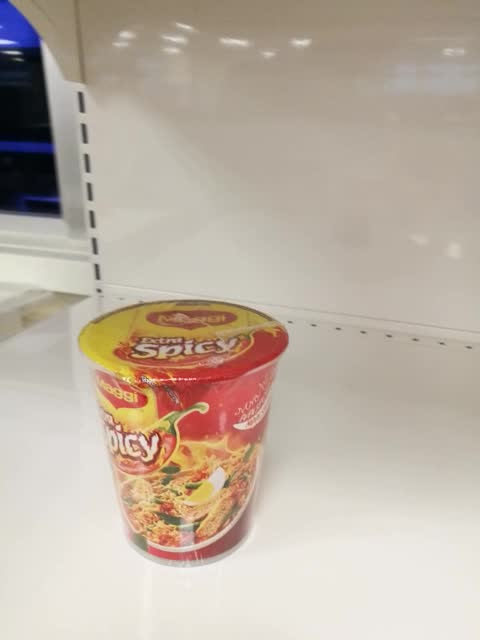maggi: (75, 298, 291, 571)
